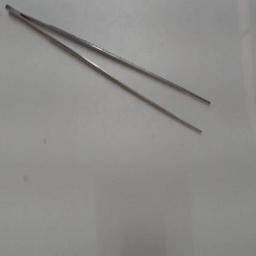DeBakey Dissector: (4, 2, 230, 144)
